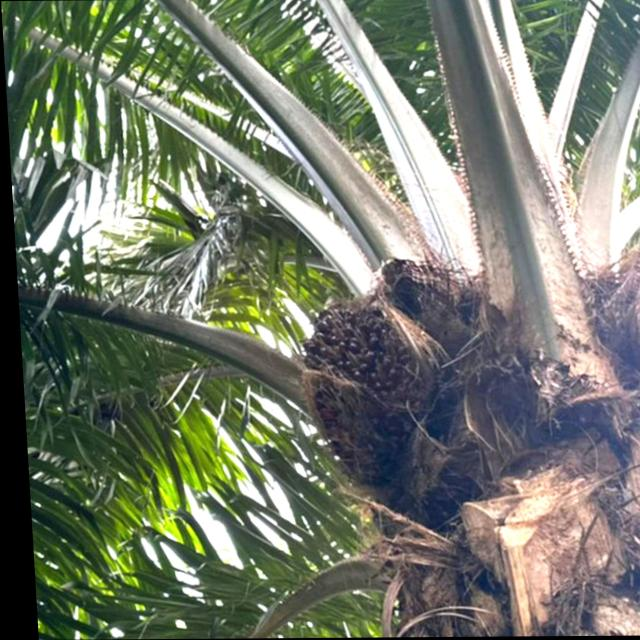ripe: (272, 291, 439, 477)
